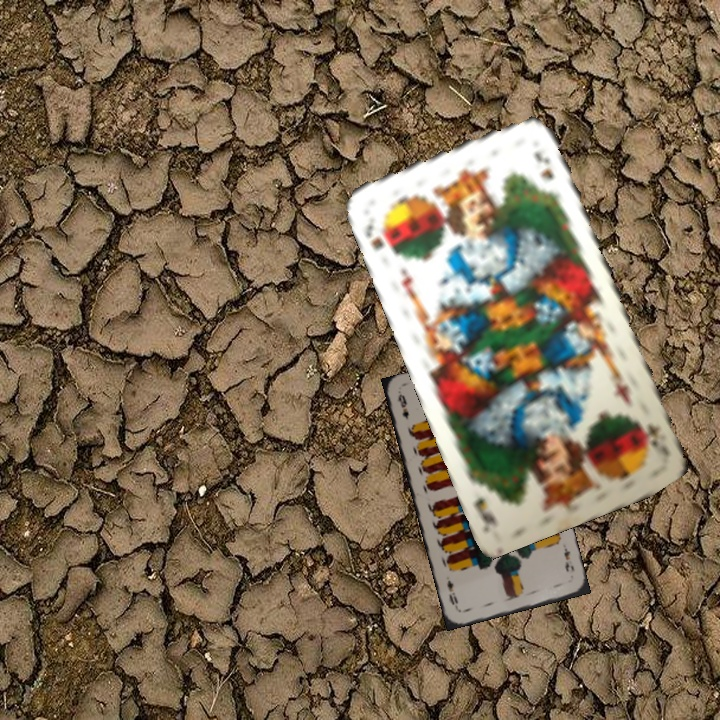E9: (393, 390, 411, 423), (560, 544, 577, 575)
SK: (361, 217, 398, 258), (633, 412, 663, 454)
